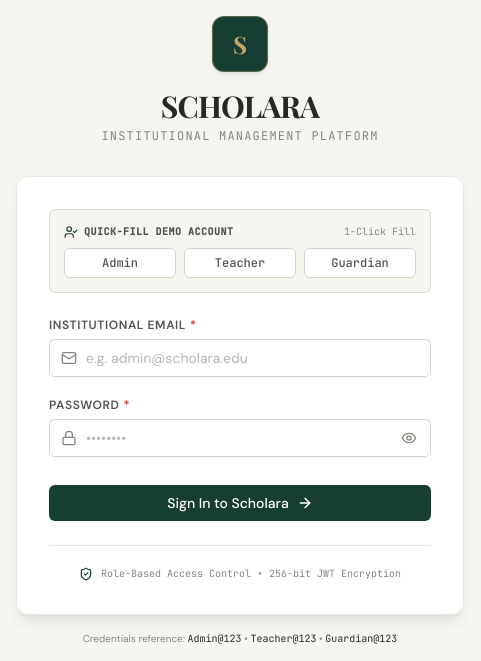
Test: SCHOLARA Authentication & RBAC Frontend Suite › Login Page › populates fields when demo role button is clicked
The width and height of the screenshot is (481, 661).
Step 1. Click the button "Admin" → (120, 263), box [64, 248, 176, 278]
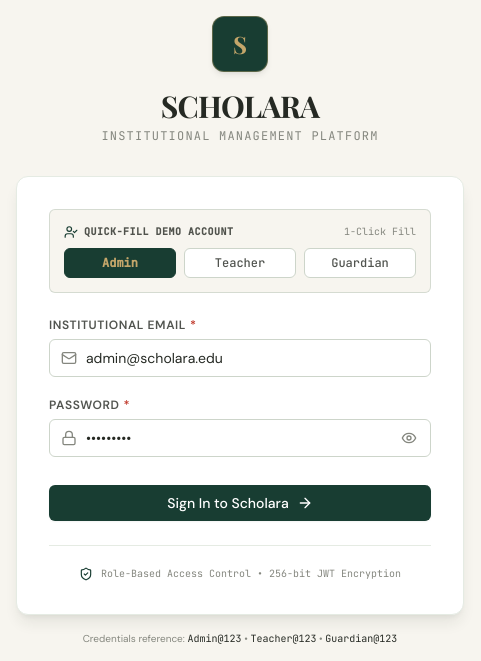
expect the field labelled "Institutional Email*" holds "admin@scholara.edu": met, box [49, 339, 431, 377]
expect the password field with placeholder "••••••••" holds "Admin@123": met, box [49, 419, 431, 457]
Note: Click Teacher
Step 2. Click the button "Teacher" → (240, 263), box [184, 248, 296, 278]
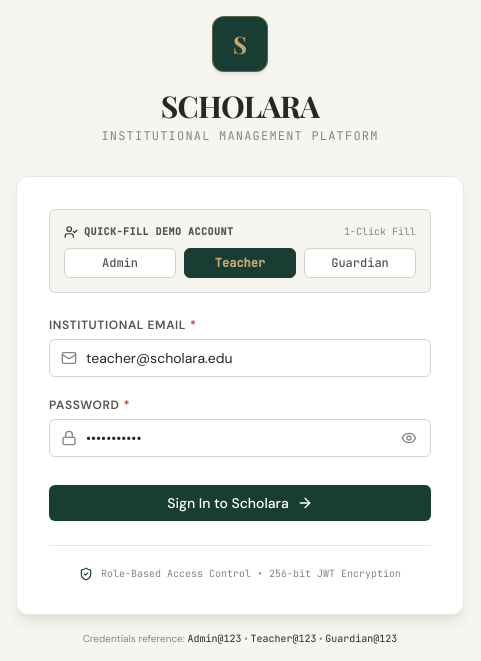
expect the password field with placeholder "••••••••" holds "Teacher@123": met, box [49, 419, 431, 457]
expect the field labelled "Institutional Email*" holds "teacher@scholara.edu": met, box [49, 339, 431, 377]
